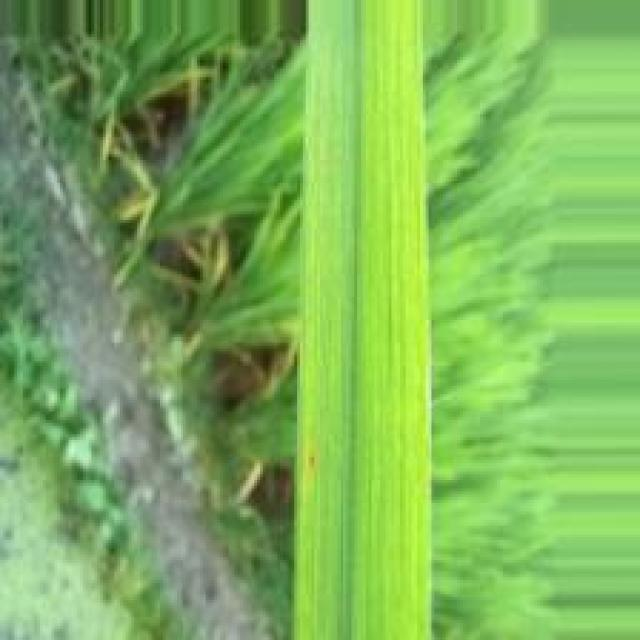HealthyLeaf: (292, 0, 428, 640)
